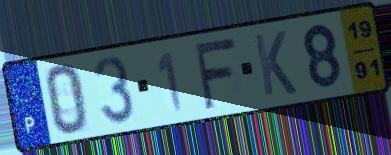0: (43, 61, 90, 136)
1: (156, 49, 185, 113)
3: (92, 55, 137, 127)
8: (301, 21, 344, 92)
F: (191, 34, 238, 112)
K: (251, 28, 300, 99)
